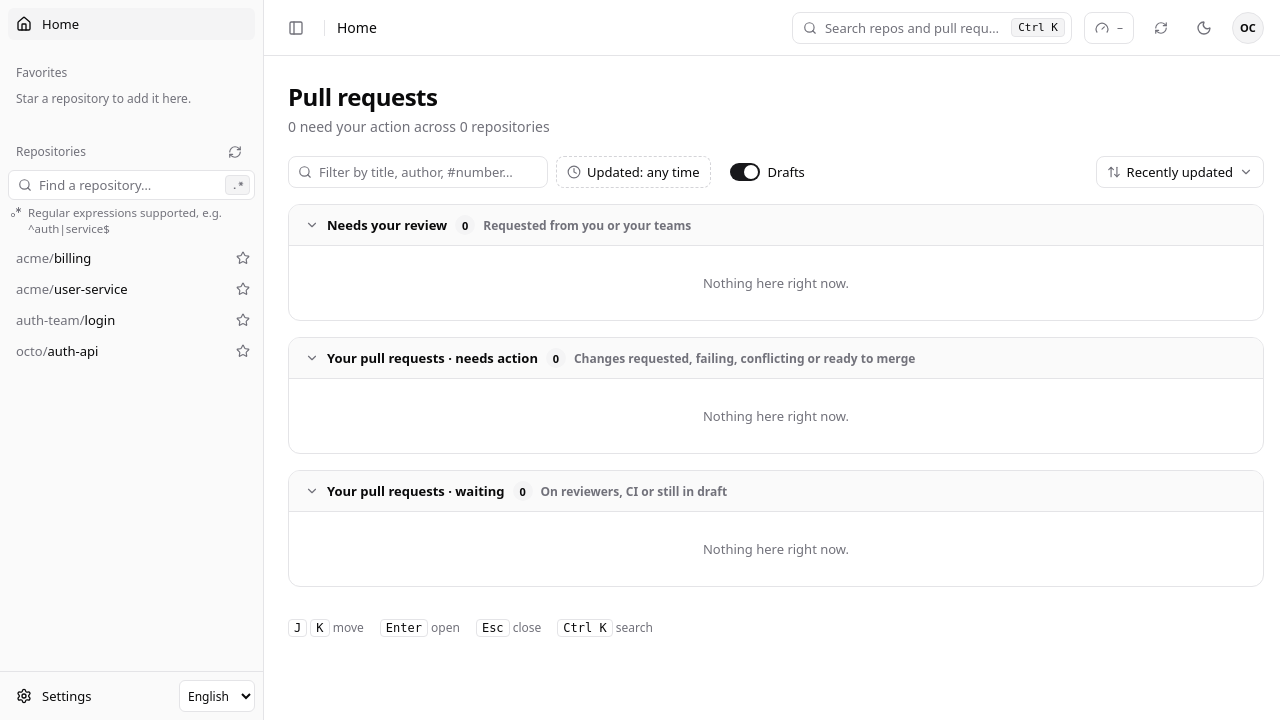
Test case: ^auth|service$ lists only repositories whose owner/name matches (AC-4.2)
Type "^auth|service$" into the search field named "Search repositories" at (132, 185), box [8,170,255,200]
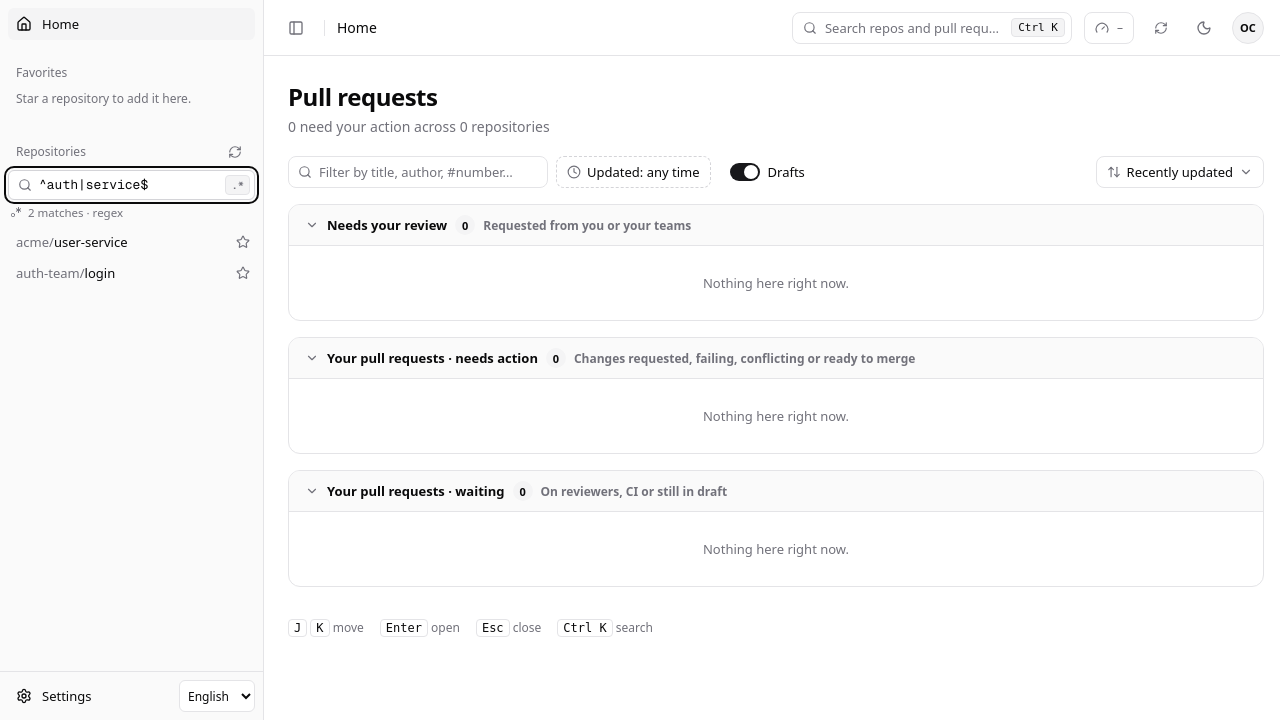
Expected: the text "2 matches · regex" is shown, [28,205,123,221]
